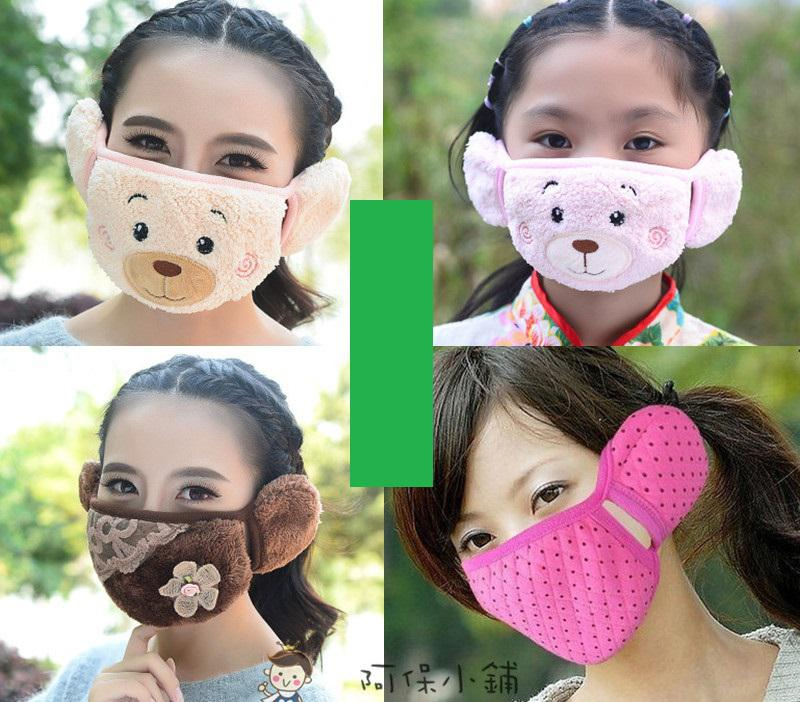OK: (450, 450, 656, 656), (97, 108, 296, 307), (513, 98, 700, 285), (87, 458, 250, 621)
